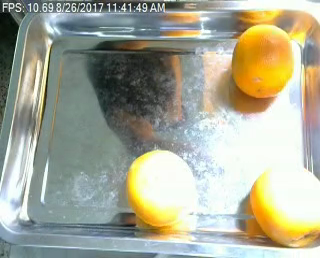Orange: (232, 23, 295, 100)
